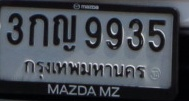num3: (5, 12, 25, 45)
txt01: (27, 13, 50, 48)
txt10: (51, 13, 79, 52)
